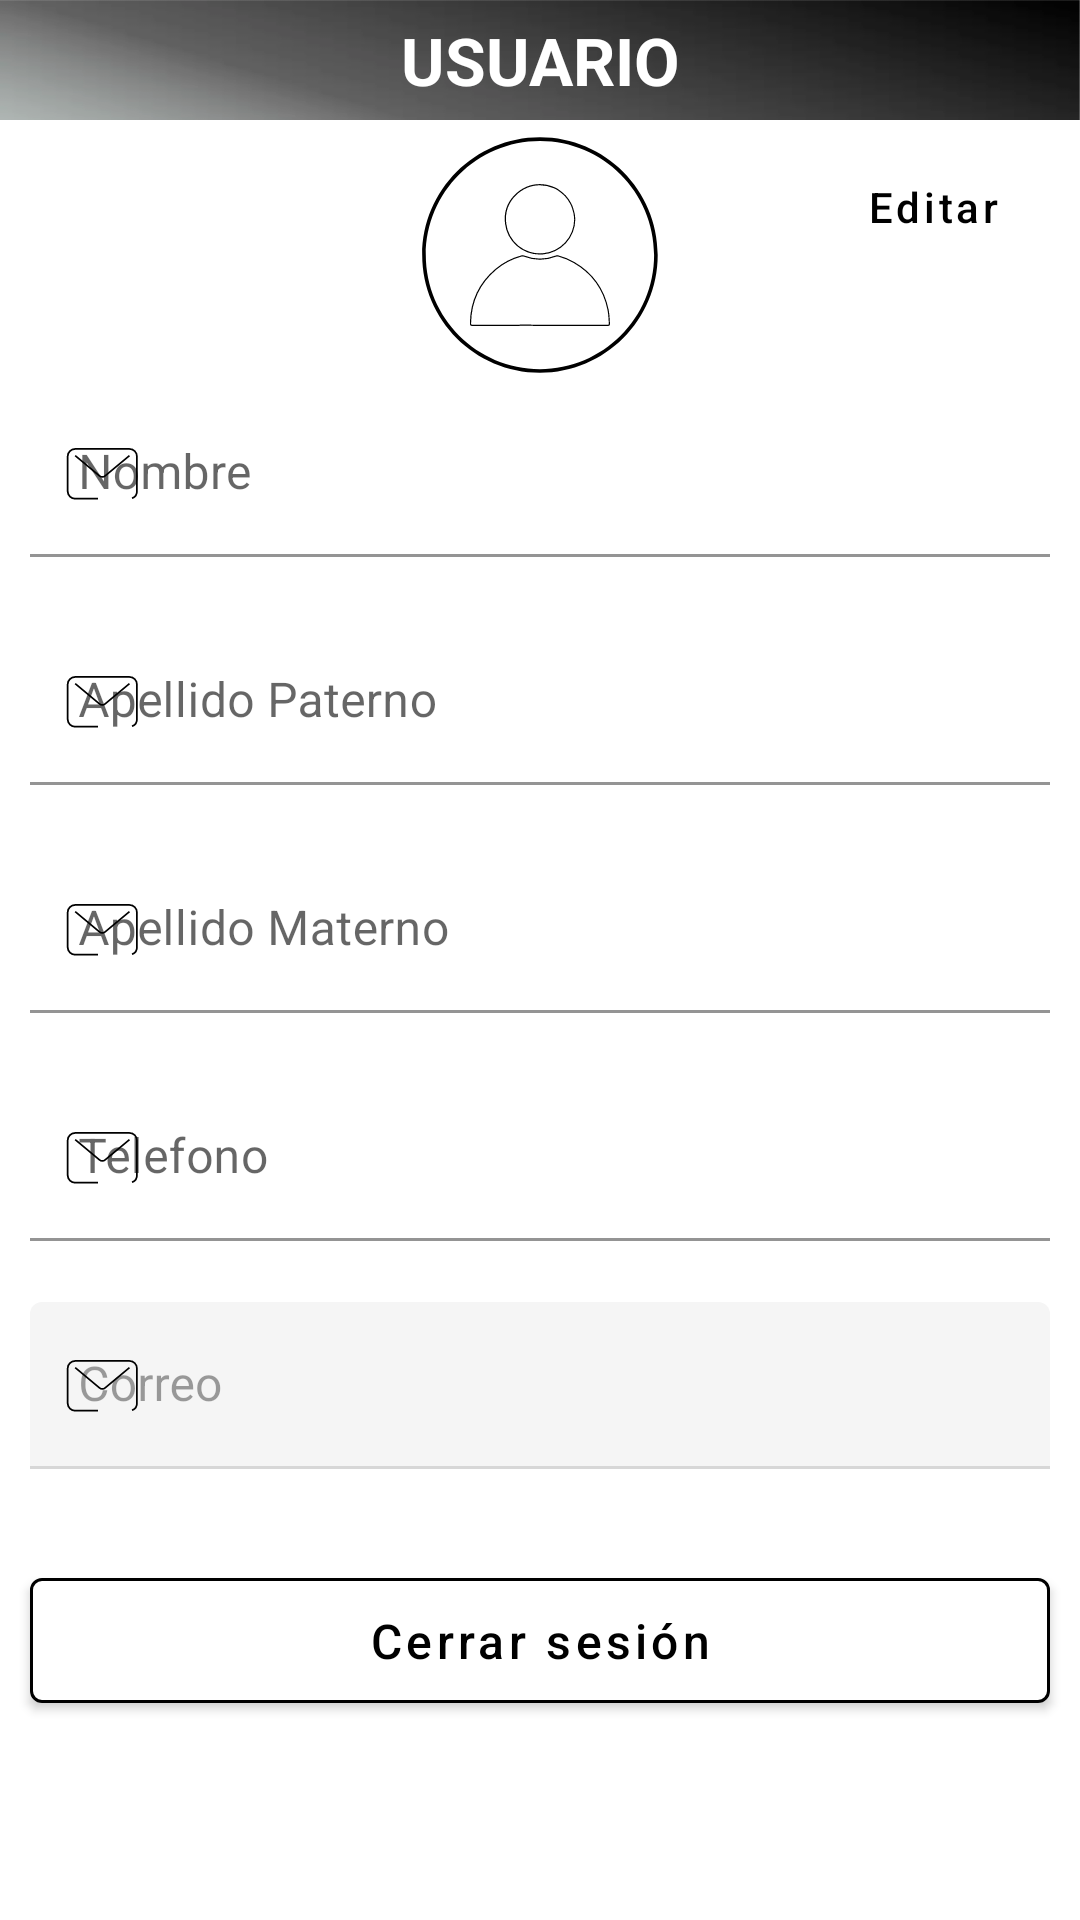

Icon click points for this 1080w x 1920h phone screenshot, format (x=x, y=y):
acount: (x=540, y=255)
